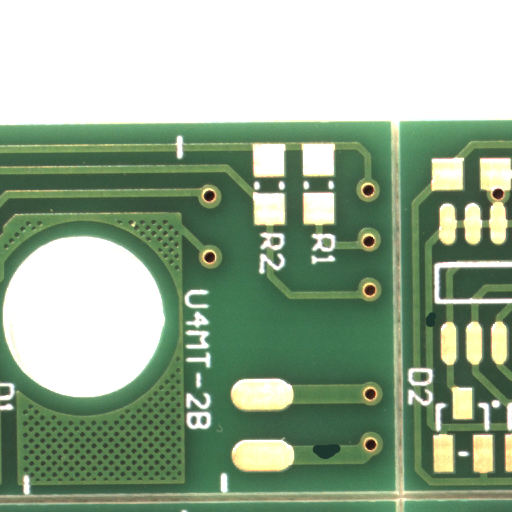Mouse_bite: (327, 451, 358, 466), (430, 319, 442, 333)
